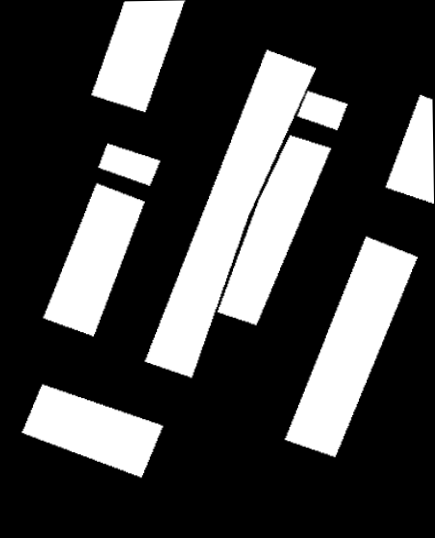parkingspot: (145, 50, 348, 378), (285, 236, 418, 457), (217, 135, 331, 325), (43, 183, 145, 337), (22, 384, 163, 478), (91, 0, 185, 112), (386, 95, 434, 204), (98, 143, 160, 186)
